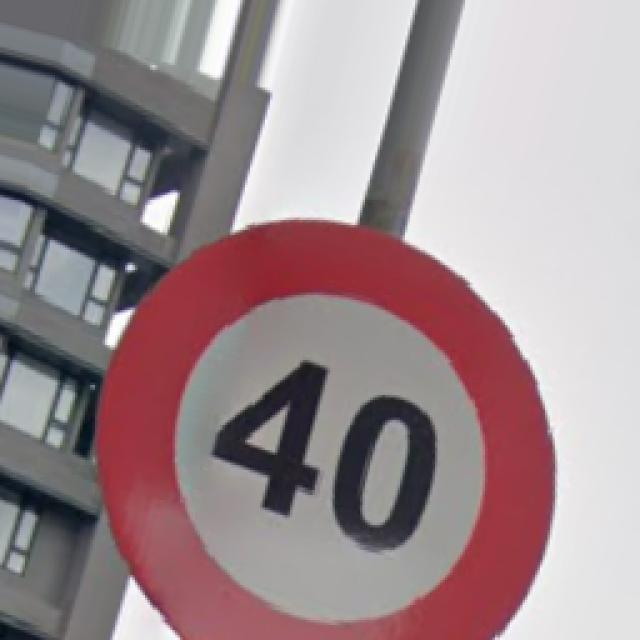Speed Limit -40-: (98, 220, 552, 638)
